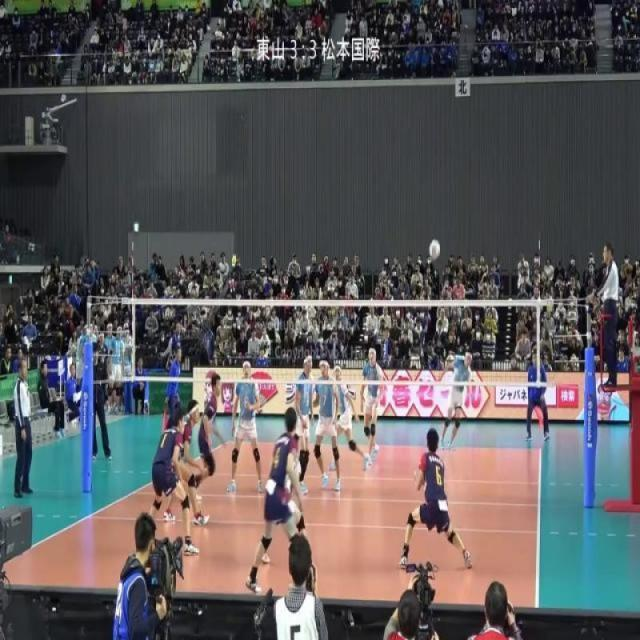volleyball: (429, 238, 441, 260)
